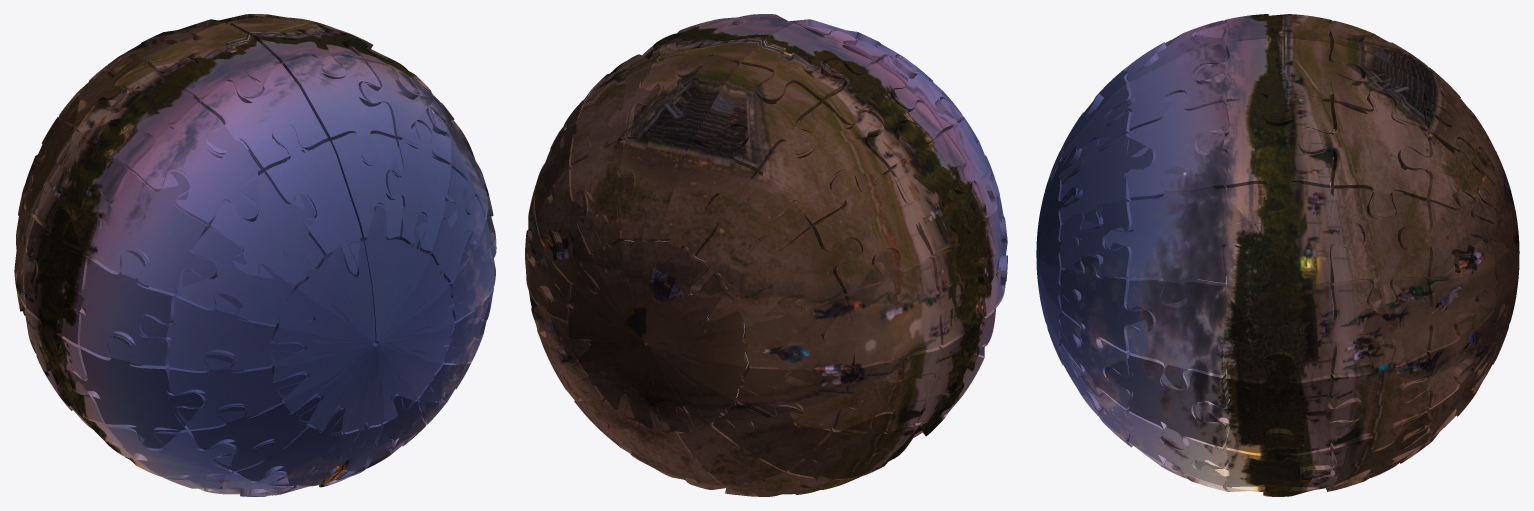
Rendered from medium-puzzle-v5.fbx.
3 views of the same model, side by side, from view 1: azimuth 30°, elevation 25°; view 2: azimuth 150°, elevation 25°; view 3: azimuth 270°, elevation 25° (orthographic).
Parts seen in each view (by area): view 1: Puzzle-Medium.002, Puzzle-Medium.016, Puzzle-Medium.006, Puzzle-Medium.019, Puzzle-Medium.005, Puzzle-Medium.026, Puzzle-Medium.004, Puzzle-Medium.018, Puzzle-Medium.008, Puzzle-Medium.001, Puzzle-Medium.015, Puzzle-Medium.020 (+26 smaller); view 2: Puzzle-Medium.003, Puzzle-Medium.021, Puzzle-Medium.014, Puzzle-Medium.010, Puzzle-Medium.013, Puzzle-Medium.009, Puzzle-Medium.012, Puzzle-Medium.015, Puzzle-Medium.011, Puzzle-Medium.008, Puzzle-Medium.022, Puzzle-Medium.020 (+26 smaller); view 3: Puzzle-Medium.064, Puzzle-Medium.065, Puzzle-Medium.060, Puzzle-Medium.055, Puzzle-Medium.070, Puzzle-Medium.061, Puzzle-Medium.069, Puzzle-Medium.066, Puzzle-Medium.059, Puzzle-Medium.071, Puzzle-Medium.075, Puzzle-Medium.054 (+26 smaller).
Boxes of the visible parts, x1,y1,x2,y2 form: Puzzle-Medium.002: (270,205,470,449); Puzzle-Medium.016: (84,171,217,293); Puzzle-Medium.006: (132,102,262,225); Puzzle-Medium.019: (59,250,176,366); Puzzle-Medium.005: (201,63,327,172); Puzzle-Medium.026: (68,336,206,448); Puzzle-Medium.004: (210,172,324,286); Puzzle-Medium.018: (139,293,304,371); Puzzle-Medium.008: (79,59,197,171); Puzzle-Medium.001: (264,125,362,275); Puzzle-Medium.015: (35,122,133,254); Puzzle-Medium.020: (24,207,91,355); Puzzle-Medium.003: (552,206,778,432); Puzzle-Medium.021: (821,249,961,382); Puzzle-Medium.014: (811,171,936,294); Puzzle-Medium.010: (758,103,888,226); Puzzle-Medium.013: (708,227,859,325); Puzzle-Medium.009: (693,64,820,172); Puzzle-Medium.012: (689,173,810,294); Puzzle-Medium.015: (888,123,985,254); Puzzle-Medium.011: (659,126,756,265); Puzzle-Medium.008: (823,59,942,171); Puzzle-Medium.022: (744,293,855,385); Puzzle-Medium.020: (929,208,997,355); Puzzle-Medium.064: (1105,167,1257,307); Puzzle-Medium.065: (1223,183,1361,286); Puzzle-Medium.060: (1223,255,1333,380); Puzzle-Medium.055: (1195,351,1361,453); Puzzle-Medium.070: (1195,96,1333,213); Puzzle-Medium.061: (1127,277,1256,390); Puzzle-Medium.069: (1301,92,1429,217); Puzzle-Medium.066: (1330,188,1429,307); Puzzle-Medium.059: (1301,277,1429,374); Puzzle-Medium.071: (1126,92,1229,200); Puzzle-Medium.075: (1195,37,1361,120); Puzzle-Medium.054: (1105,353,1229,450).
Size of the model in its own units: 0.6453 by 0.6464 by 0.6463.
